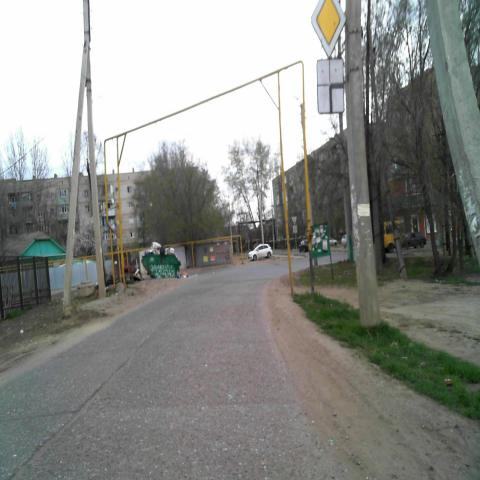2_1: (310, 0, 345, 57)
8_13: (316, 57, 345, 115)
